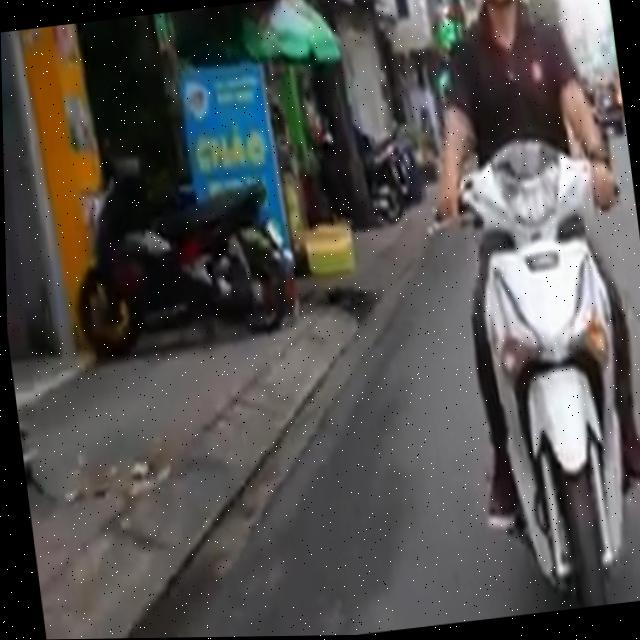motorcycle: (420, 127, 640, 620), (51, 164, 310, 361)
